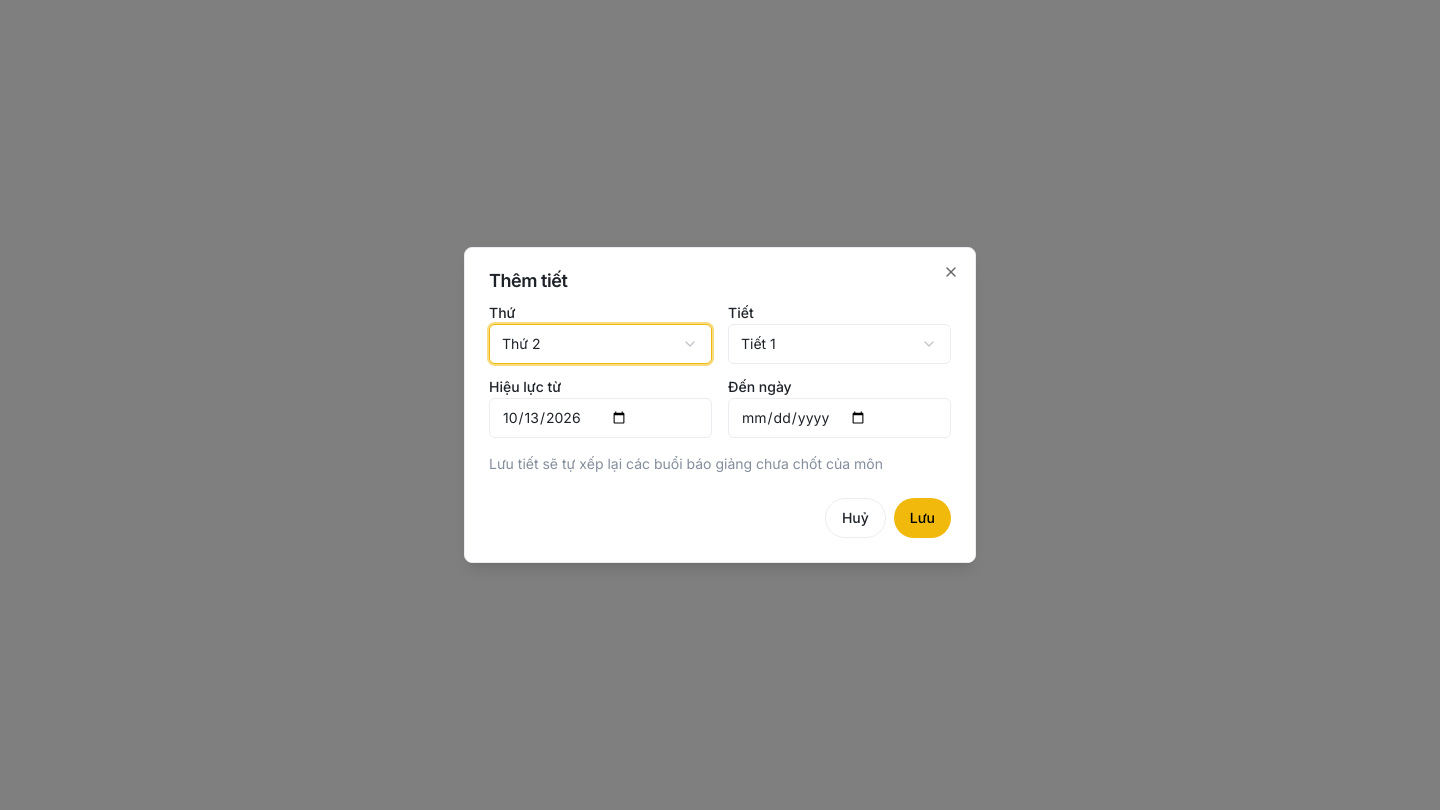
it: lỗi từ backend › 409 "Tiết này đã có trong thời khóa biểu của môn trong khoảng thời gian trùng" hiện nguyên văn, hộp thoại KHÔNG đóng và nút Lưu bấm lại được
In the date field labelled "Hiệu lực từ": x=600, y=418 [489,398,712,438], type "2026-01-05"
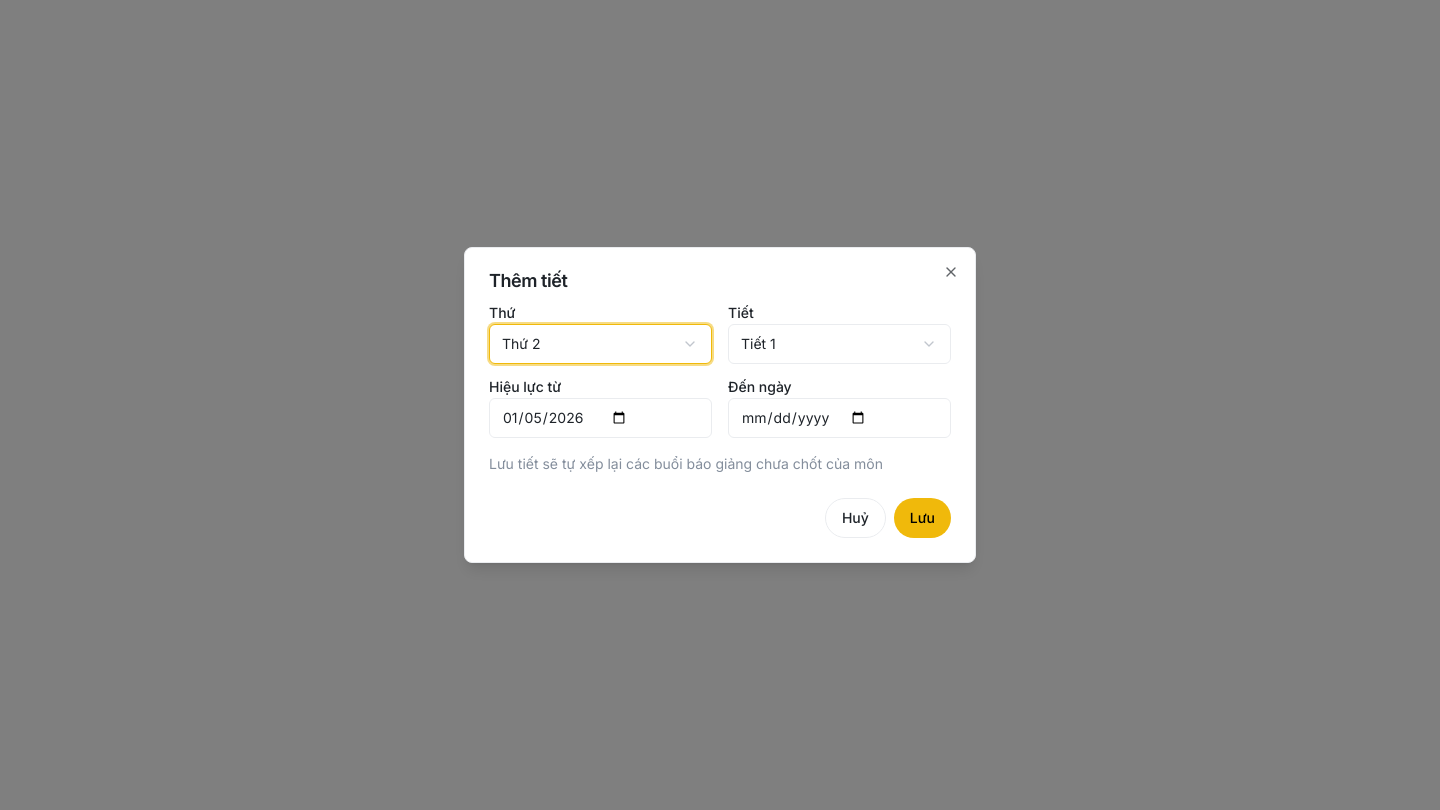
Click the button "Lưu": x=922, y=518 [894,498,951,538]
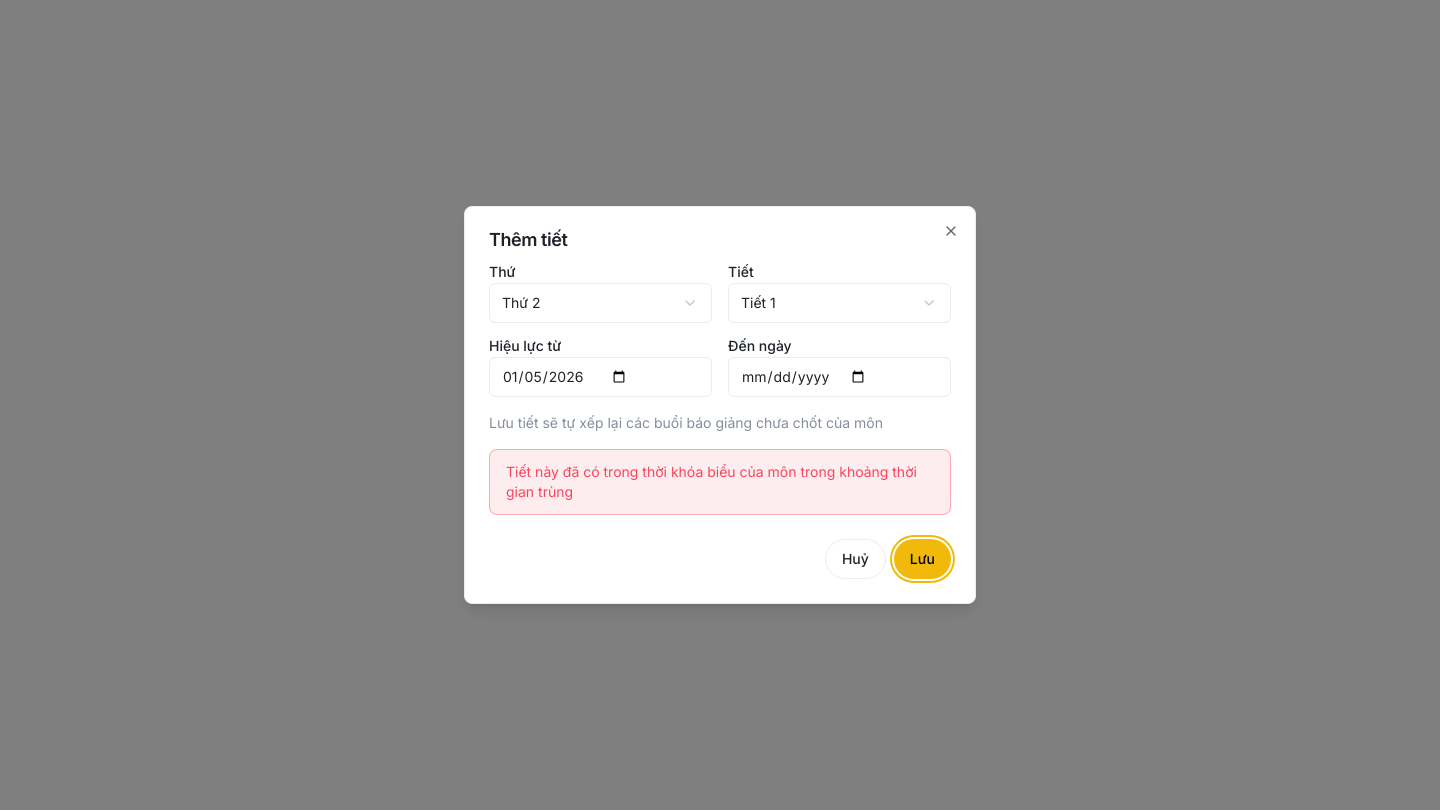
Expected: the button "Lưu" is enabled, [894,539,951,579]
Expected: the message reads "Tiết này đã có trong thời khóa biểu của môn trong khoảng thời gian trùng", [506,463,917,500]
